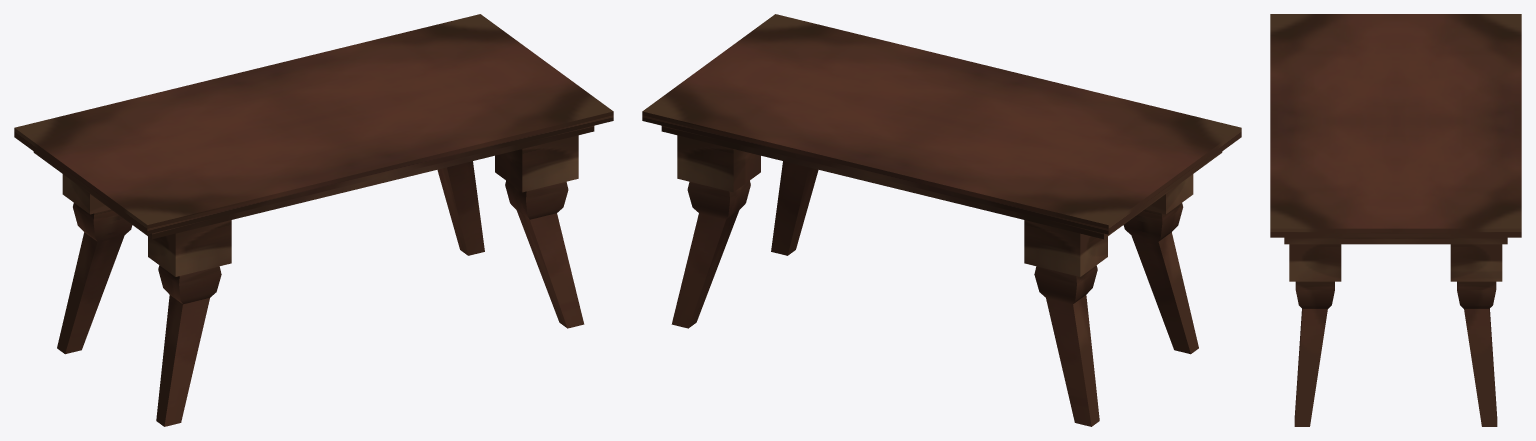
Rendered from Table 1.glb.
3 renders of one model, left to right at view 1: azimuth 30°, elevation 25°; view 2: azimuth 150°, elevation 25°; view 3: azimuth 270°, elevation 25°, orthographic. The views are drawn at different scales.
Visible parts, largest first — view 1: Cube; view 2: Cube; view 3: Cube.
Boxes of the visible parts, bbox=[...] form: Cube: bbox=[14, 14, 613, 426]; Cube: bbox=[642, 14, 1241, 426]; Cube: bbox=[1270, 14, 1521, 426].
Bounding box in the file's own units: 5.7 × 2.55 × 2.82.
1 material, 1 textured.
